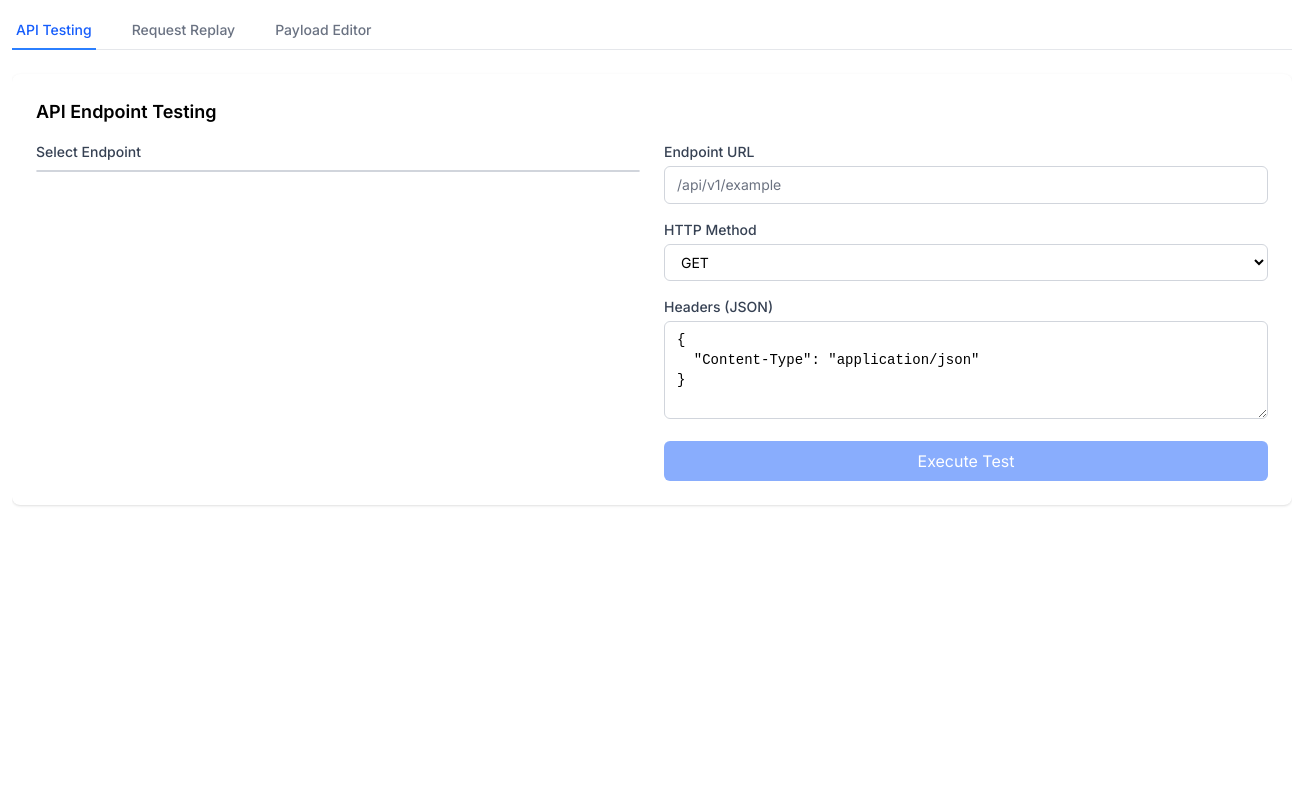
Test: DebuggingToolsInterface › allows selecting a request for replay
Click the button "Request Replay" at {"x": 183, "y": 31}, box 128,12 -> 239,50
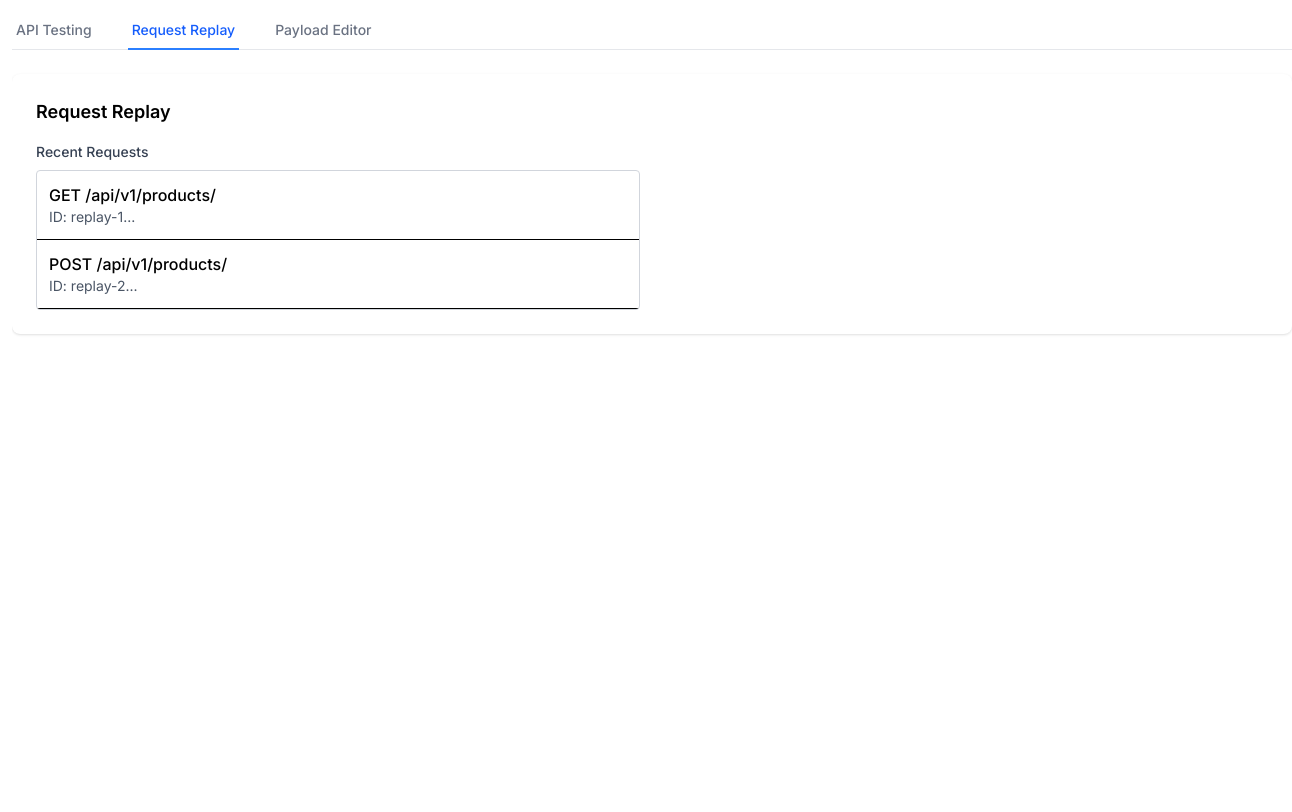
Click the text "GET /api/v1/products/" at {"x": 132, "y": 195}, box 49,183 -> 216,207
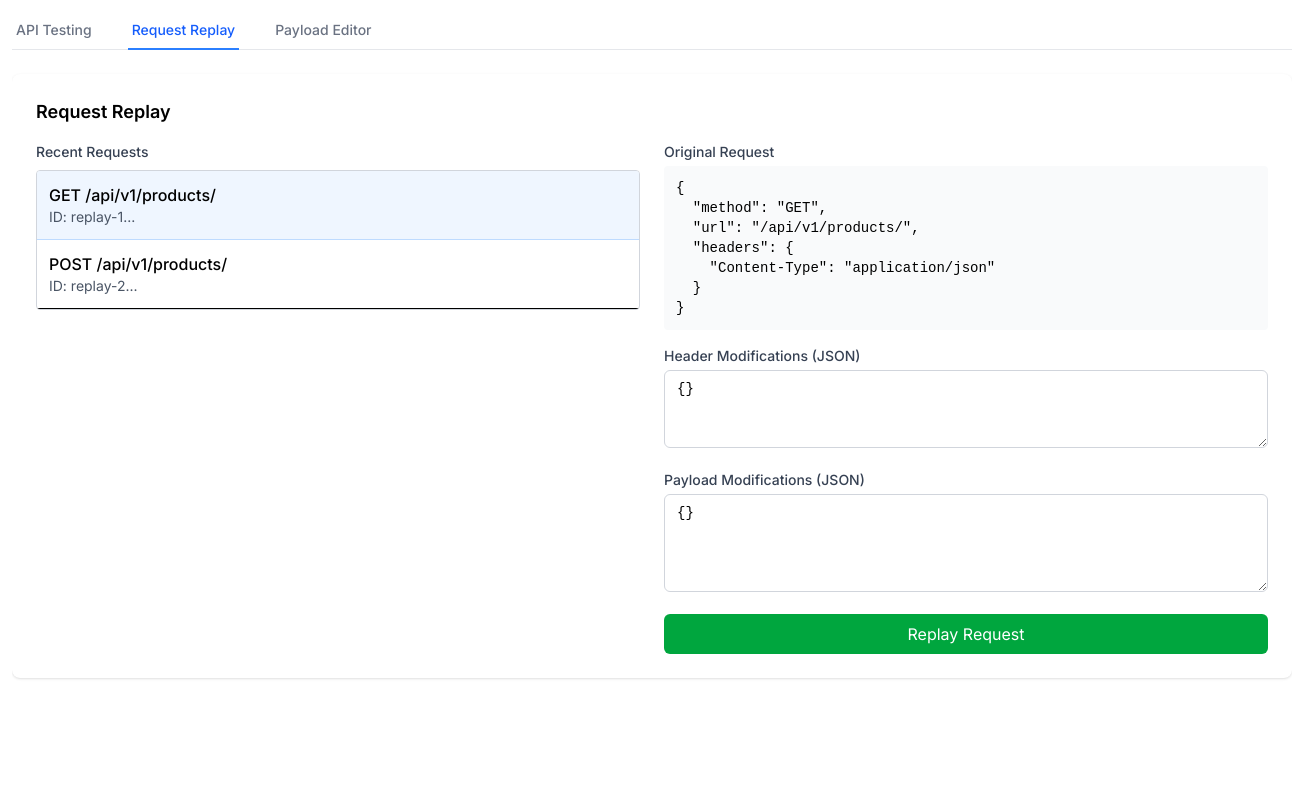
Result: the text "Original Request" is shown at 664,143 -> 774,160
Result: the text "Header Modifications (JSON)" is shown at 664,347 -> 860,364
Result: the text "Payload Modifications (JSON)" is shown at 664,471 -> 865,488
